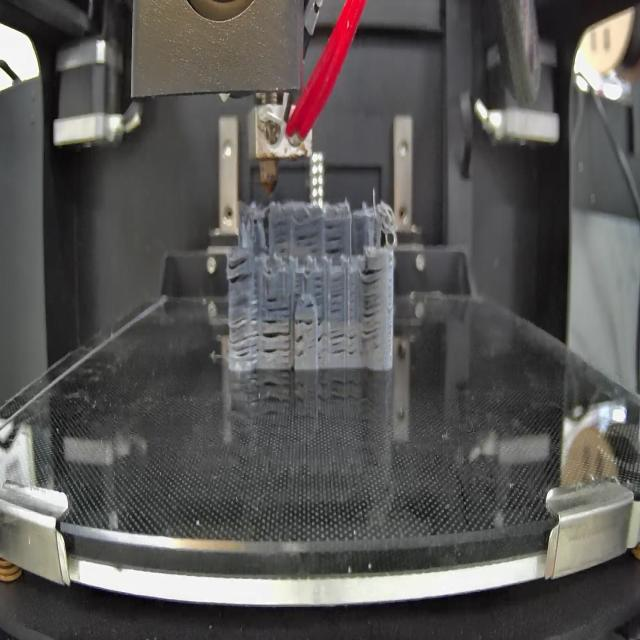cracks: (261, 297, 289, 366), (361, 262, 385, 342), (229, 299, 259, 362), (330, 329, 360, 358), (228, 254, 254, 285), (296, 223, 321, 255), (325, 222, 345, 256), (331, 276, 343, 315), (274, 220, 288, 253), (318, 316, 326, 361), (294, 332, 305, 361), (313, 271, 325, 296), (292, 273, 302, 299), (296, 316, 316, 328), (303, 301, 317, 312)
